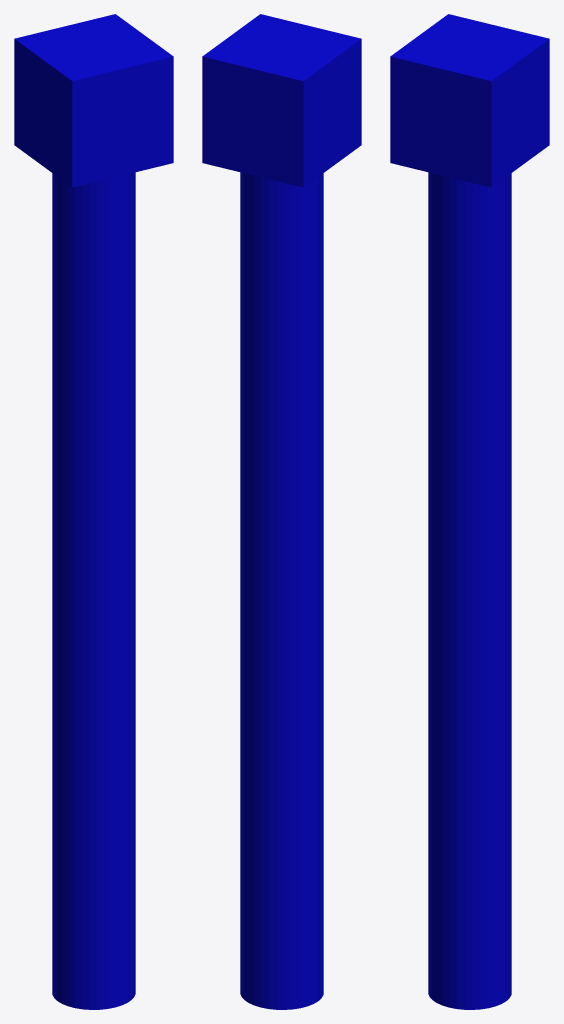
Rendered from AxisScaleArrowZ.obj.
3 renders of one model, left to right at view 1: azimuth 30°, elevation 25°; view 2: azimuth 150°, elevation 25°; view 3: azimuth 330°, elevation 25°, orthographic.
Parts seen in each view (by area): view 1: Cube.001; view 2: Cube.001; view 3: Cube.001.
Boxes of the visible parts, x1,y1,x2,y2 form: Cube.001: [14, 14, 173, 1009]; Cube.001: [202, 14, 361, 1009]; Cube.001: [390, 14, 549, 1009].
Size of the model in its own units: 0.2111 by 1.88 by 0.2098.
